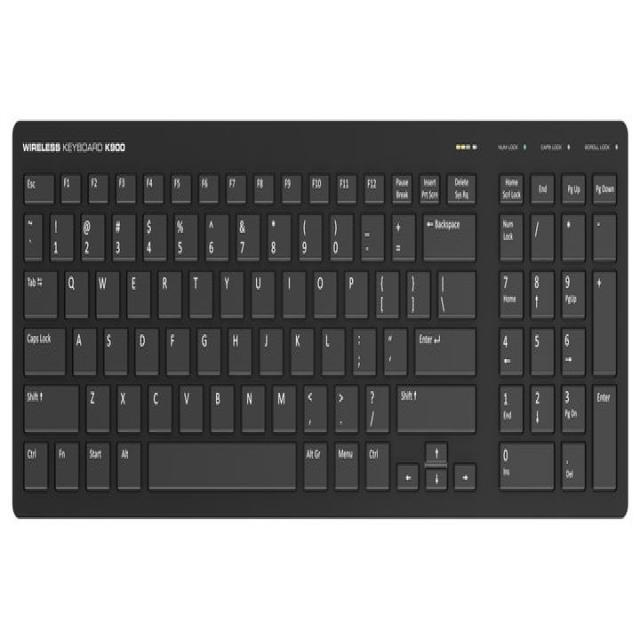keyboard: (18, 122, 625, 518)
